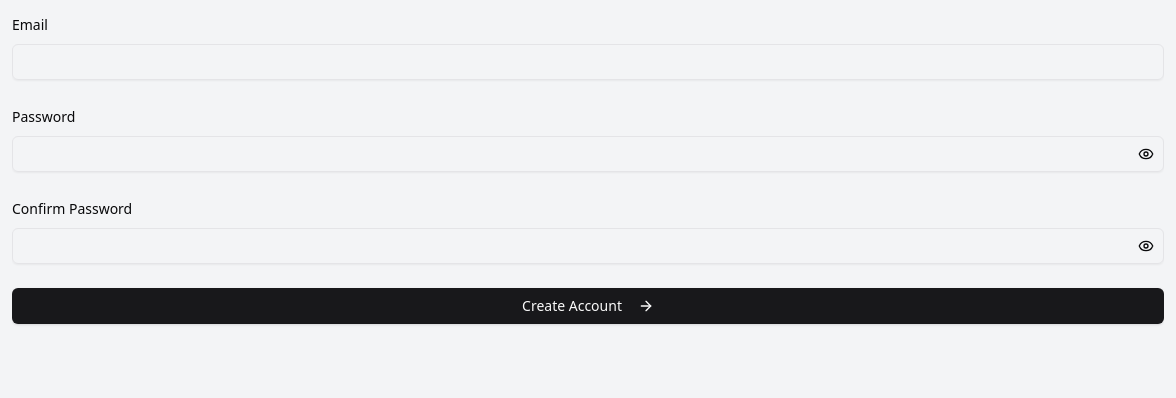
SignupForm › validates email is required and displays an error if empty
Click the button "Create Account": (588, 306) [12, 288, 1164, 324]
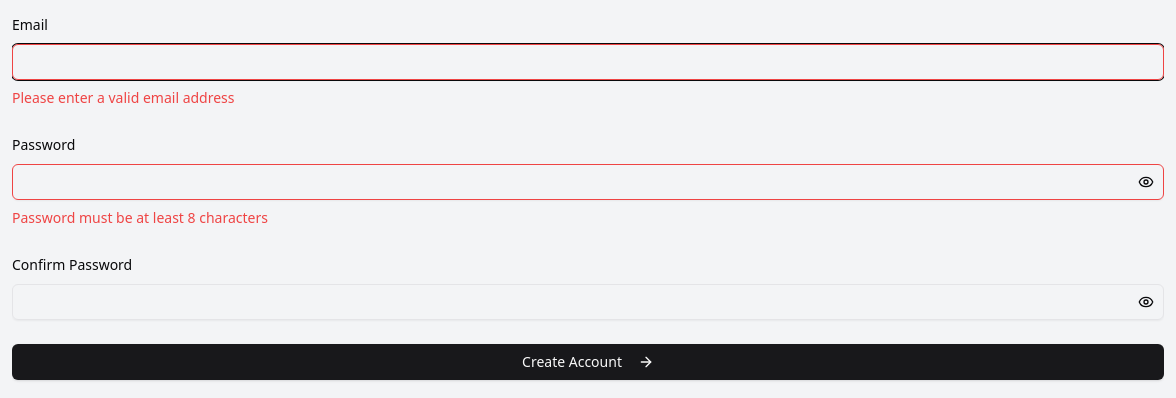
Check: the text "Please enter a valid email address" is shown, box [12, 88, 234, 107]
